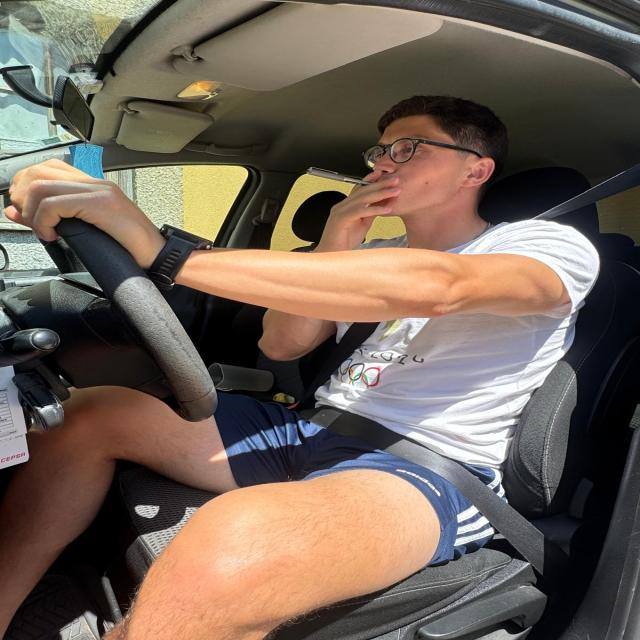Cigarette: (298, 149, 407, 210)
Seatbelt: (215, 140, 640, 613)
